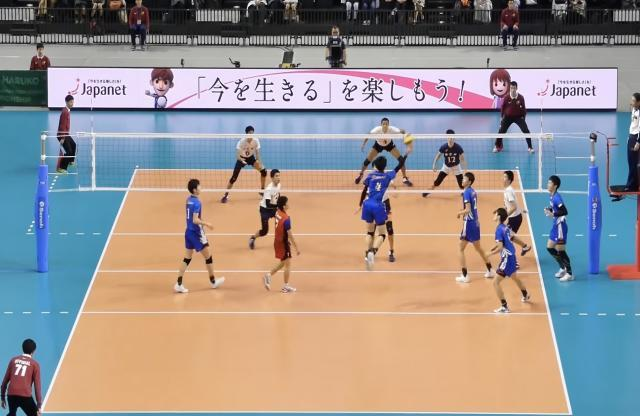spike: (362, 133, 417, 273)
